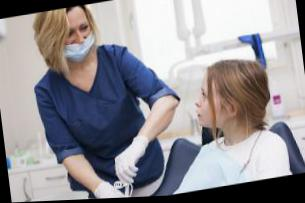NONE: (192, 85, 223, 132)
WRONG: (57, 14, 97, 65)
